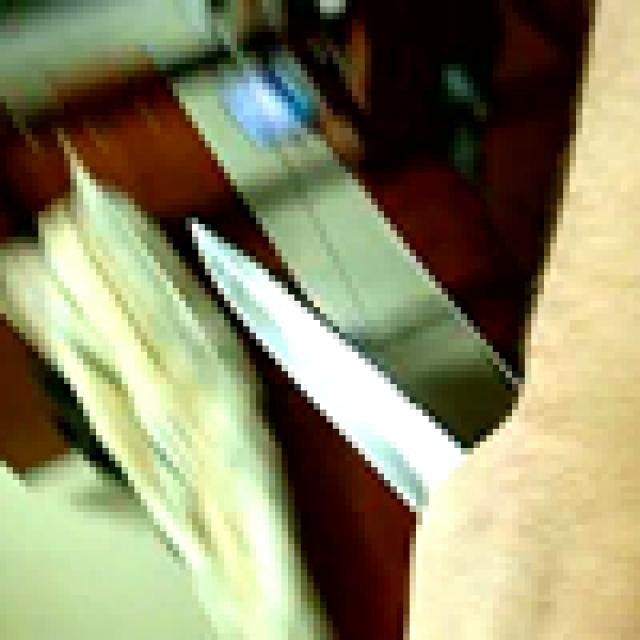Knife: (179, 198, 474, 525)
